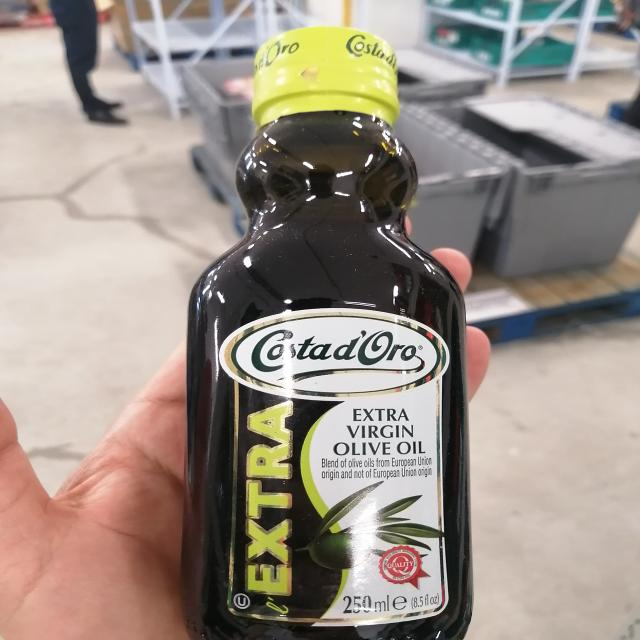object_name: (203, 27, 470, 640)
